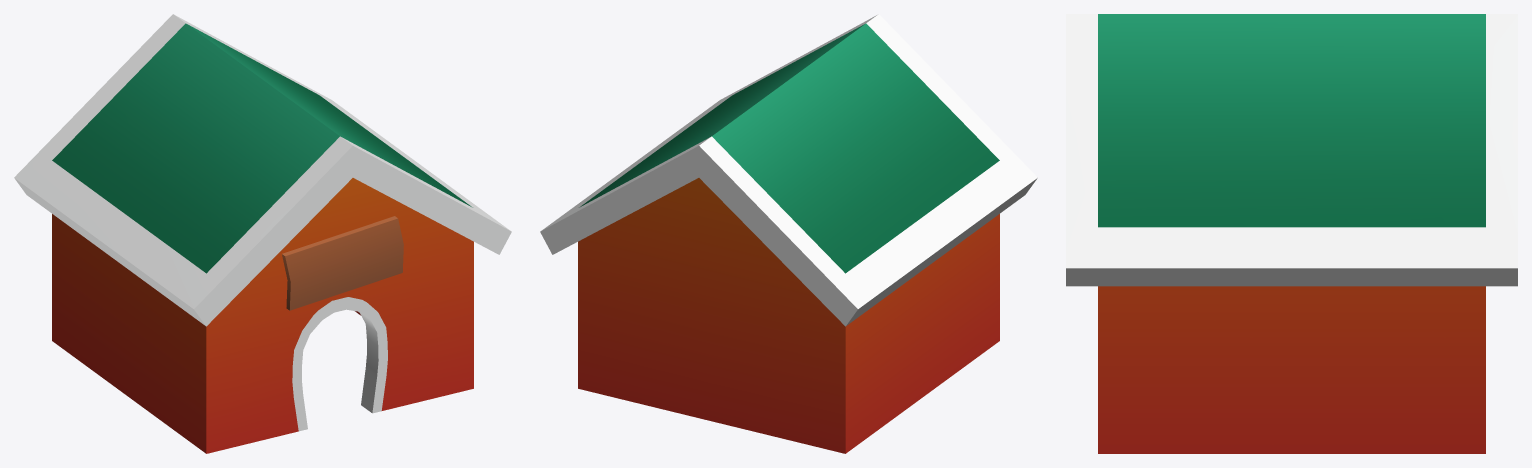
The model's file is Kennel.fbx.
3 renders of one model, left to right at view 1: azimuth 30°, elevation 25°; view 2: azimuth 150°, elevation 25°; view 3: azimuth 270°, elevation 25°, orthographic. The views are drawn at different scales.
Parts seen in each view (by area): view 1: Kennel; view 2: Kennel; view 3: Kennel.
Part boxes in pixels (<box>): Kennel: <box>14,14,511,453</box>; Kennel: <box>540,14,1037,453</box>; Kennel: <box>1066,14,1517,453</box>.
Bounding box in the file's own units: 0.9668 × 0.8279 × 0.9471.
